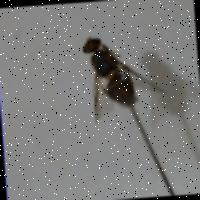Oriental-fruit-fly: (62, 9, 170, 136)
